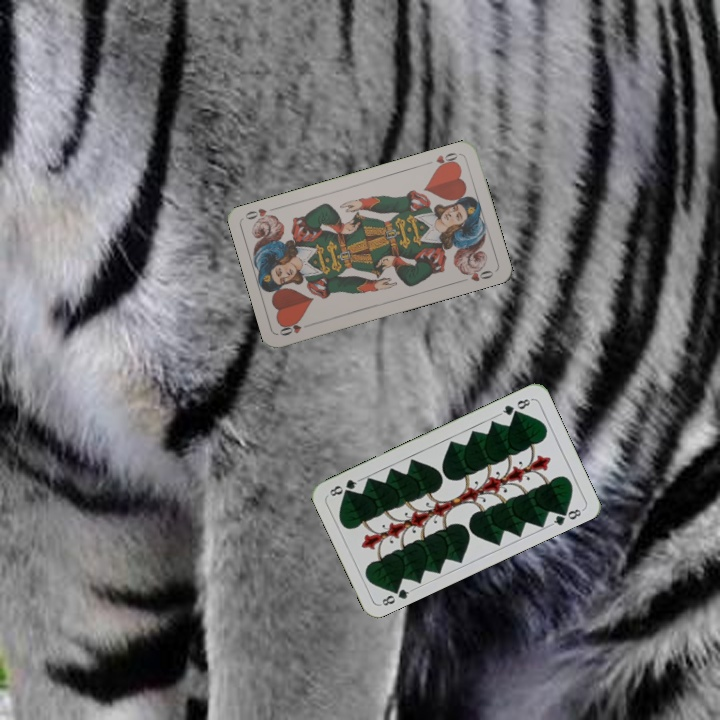G8: (376, 582, 415, 609), (496, 395, 534, 418)
HO: (275, 318, 315, 338), (432, 148, 460, 172)
